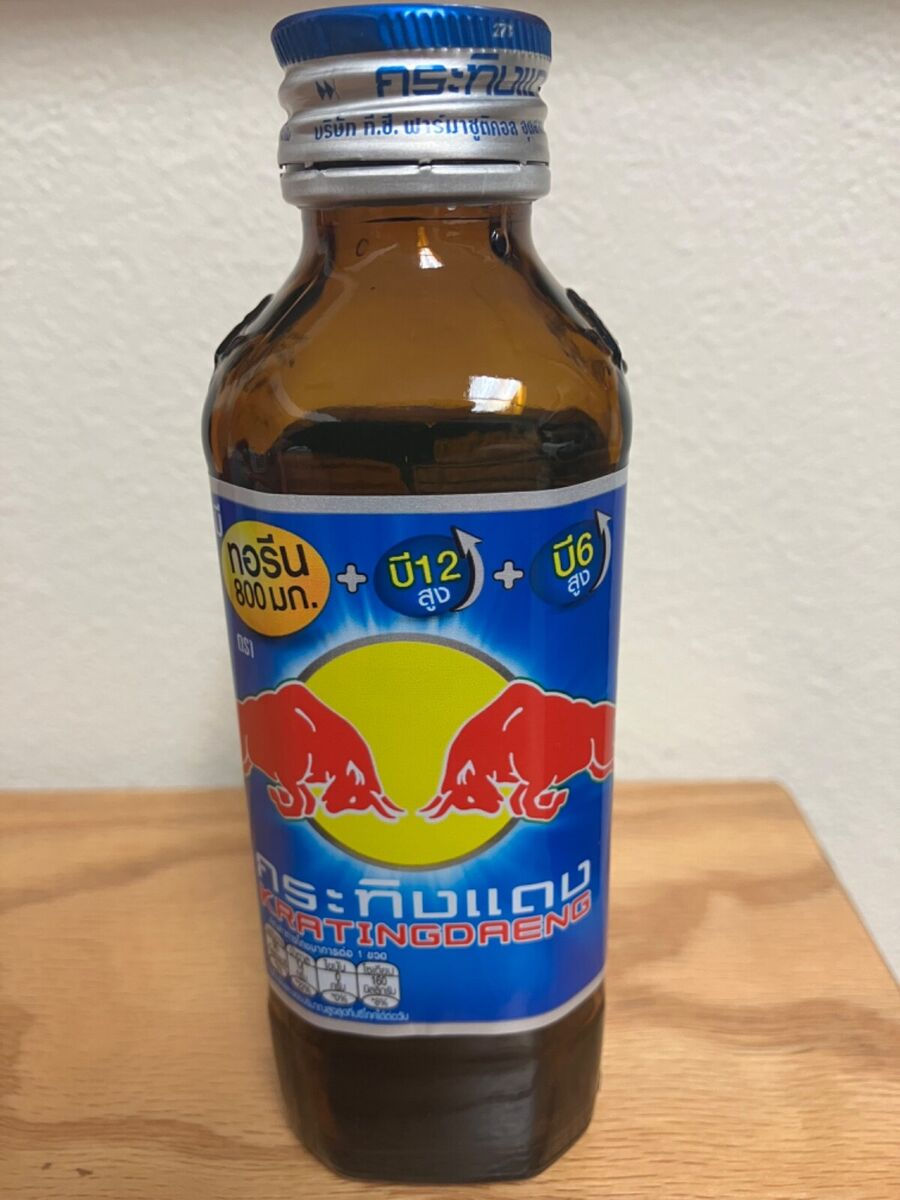glass_bottle: (177, 2, 660, 1192)
